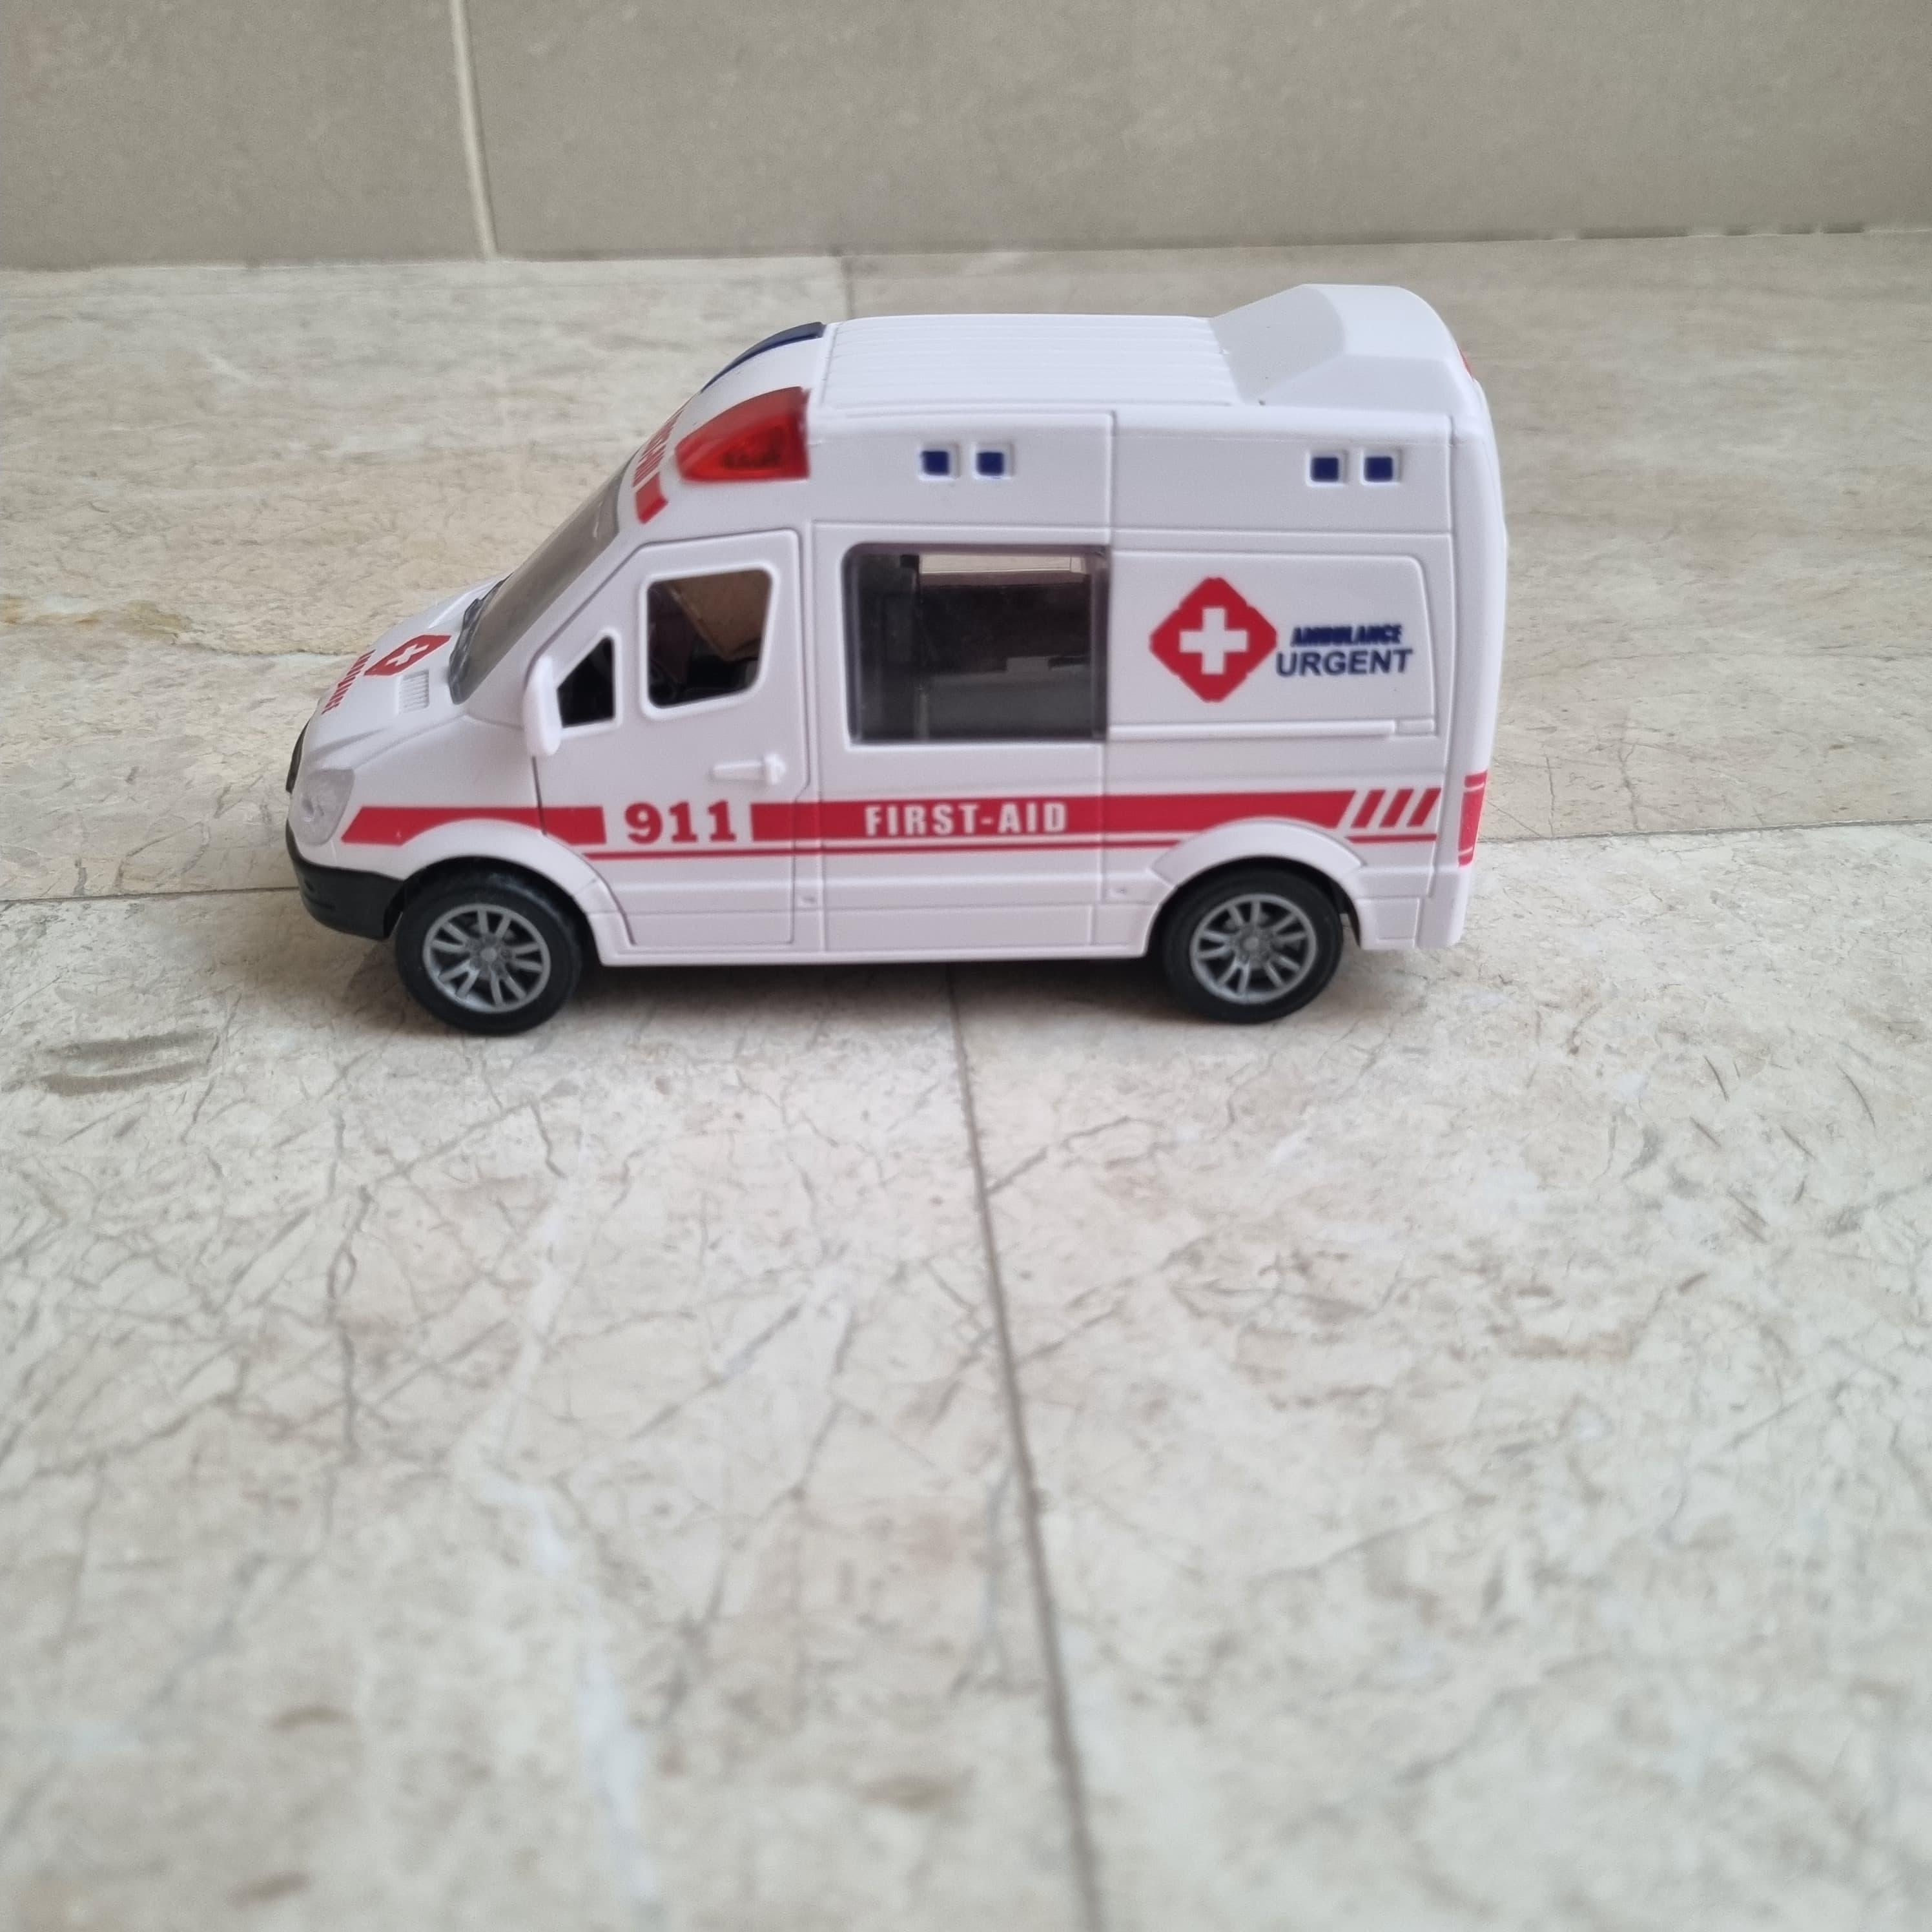ambulance_off: (288, 285, 1507, 1033)
